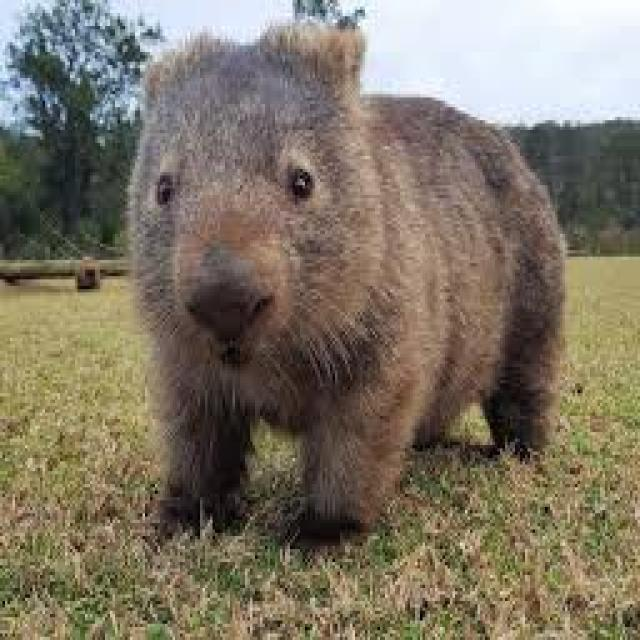Wombat: (122, 22, 575, 536)
